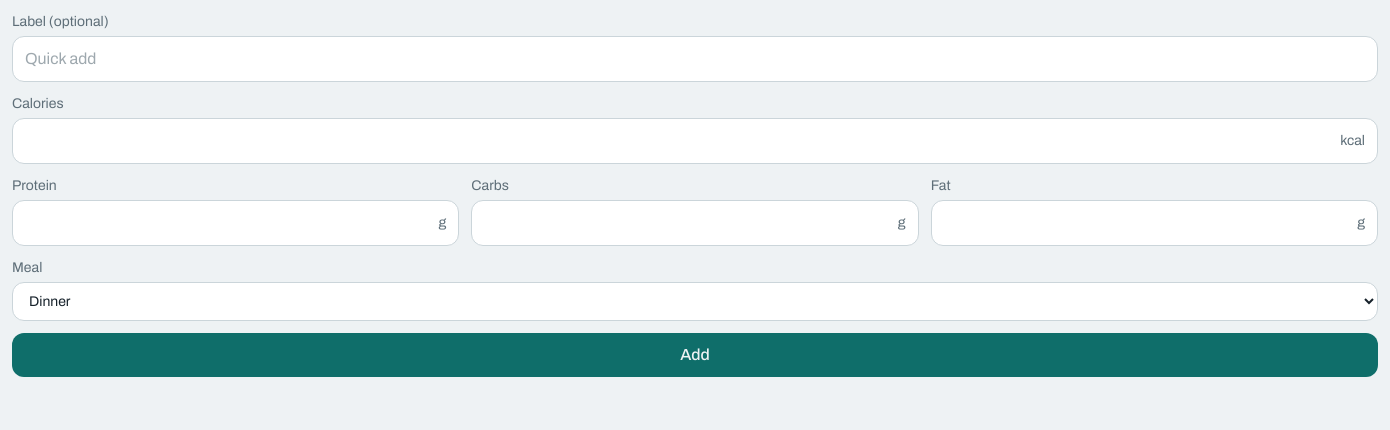
QuickAddForm › requires calories
The image size is (1390, 430).
Click the button "Add". click: {"x": 695, "y": 355}
box: [12, 333, 1378, 377]
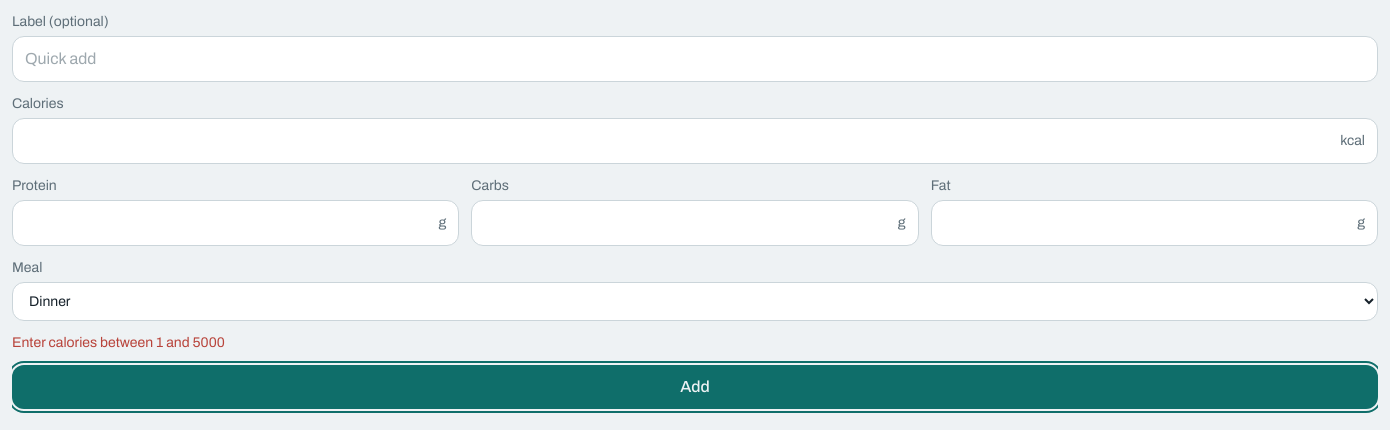
Result: the message shows "Enter calories" at [12, 335, 225, 350]
